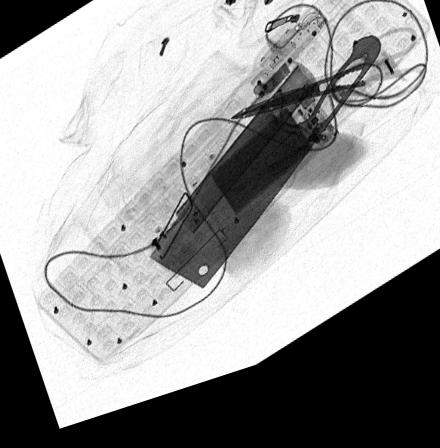Knife: (146, 56, 382, 302)
Powerbank: (202, 107, 337, 242)
Scissors: (225, 51, 426, 135)
